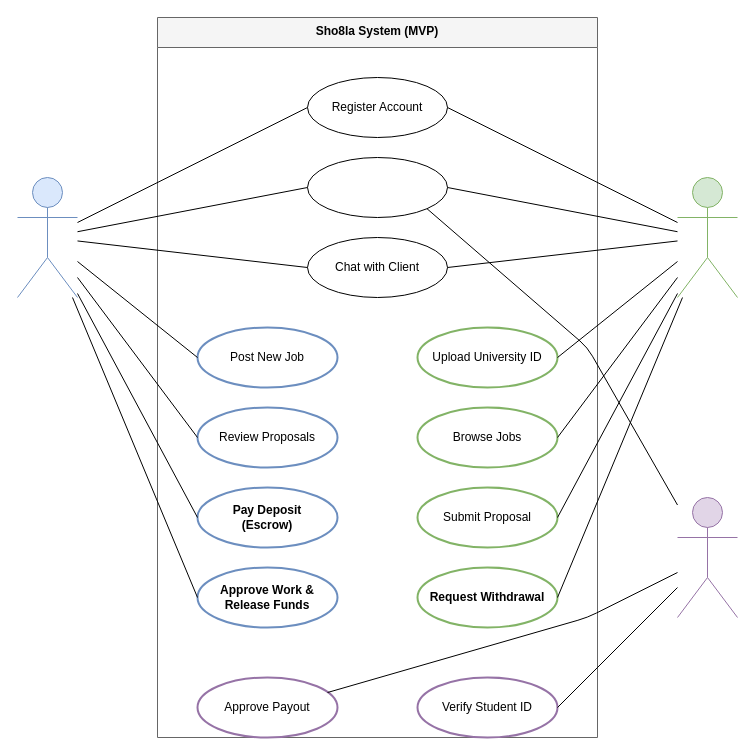
The diagram is 755 pixels wide and 756 high, and some of its shapes have lost their labels. Here are the shapes that lost their labels. From the top down, the centre of each, then its label:
At point (377, 187): "Login".
At point (47, 237): "Client".
At point (707, 237): "Freelancer (Student)".
At point (707, 557): "Admin".
